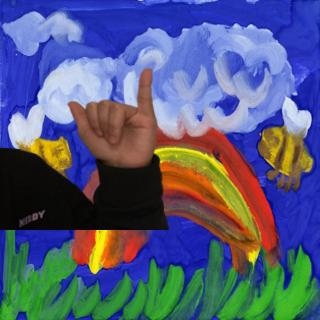HAVE: (65, 64, 167, 179)
